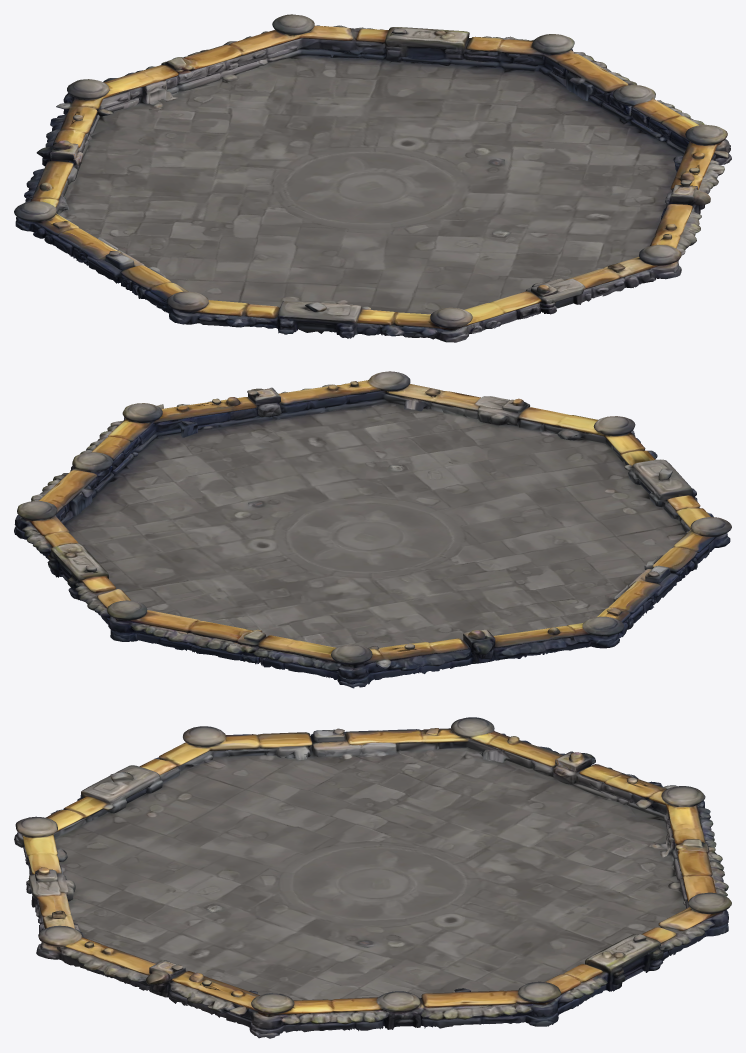
The model's file is ring.glb.
3 views of the same model, one above another, from view 1: azimuth 30°, elevation 25°; view 2: azimuth 150°, elevation 25°; view 3: azimuth 270°, elevation 25° (orthographic). The views are drawn at different scales.
Parts seen in each view (by area): view 1: arena; view 2: arena; view 3: arena.
Part boxes in pixels (left/top/right/bottom): arena: left=14, top=14, right=731, bottom=342; arena: left=14, top=371, right=731, bottom=688; arena: left=14, top=717, right=731, bottom=1038.
Size of the model in its own units: 53.68 by 2.77 by 53.4.
1 material, 1 textured.
